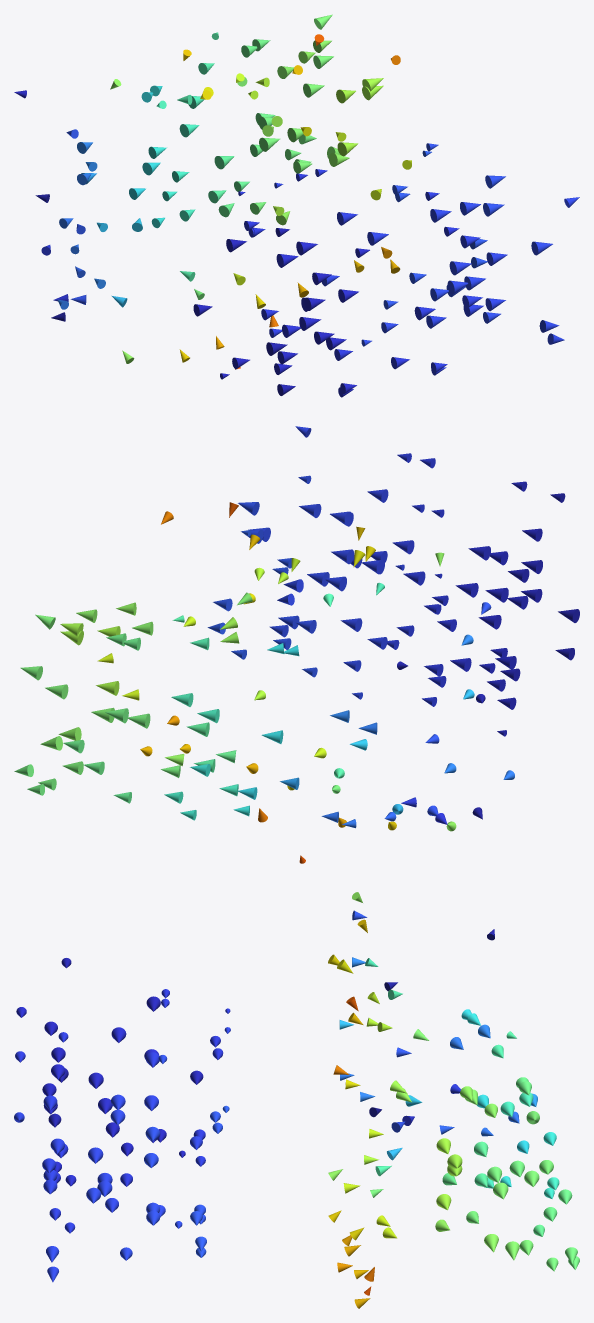
File: LineasCorrienteN2-H2O_mh2-6.88_V-1.glb
3 renders of one model, top to bottom at view 1: azimuth 30°, elevation 25°; view 2: azimuth 150°, elevation 25°; view 3: azimuth 270°, elevation 25°, orthographic. The views are drawn at different scales.
Bounding box in the file's own units: 0.000965 × 0.000811 × 0.0012.
Materials: 2 (2 with a texture image).
